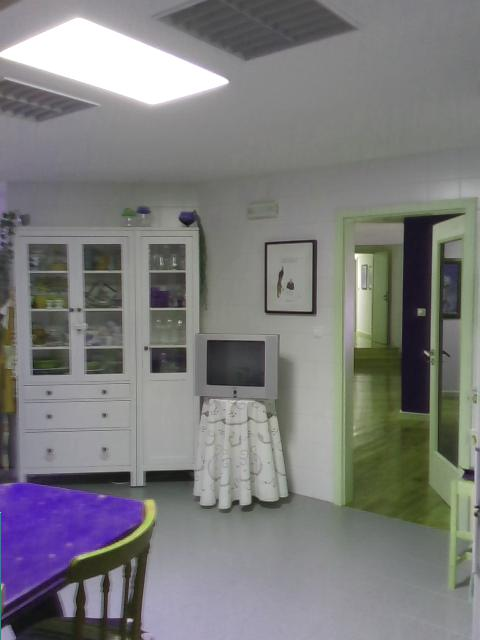semi_door: (330, 194, 479, 535)
